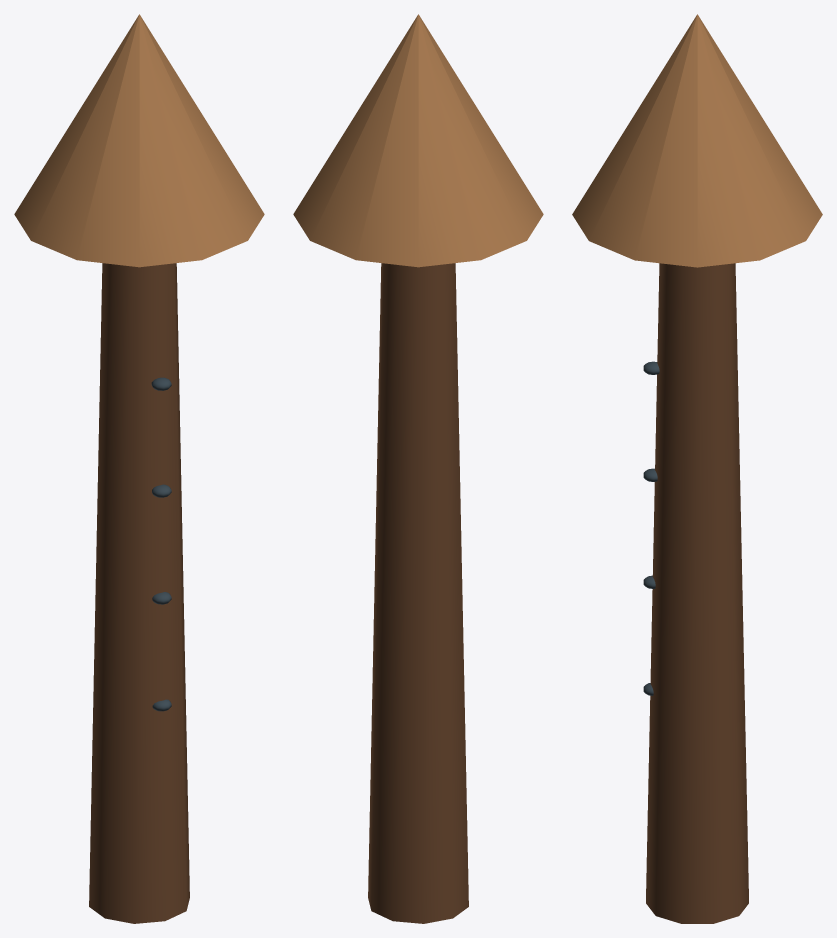
The model's file is shawm.glb.
3 views of the same model, side by side, from view 1: azimuth 30°, elevation 25°; view 2: azimuth 150°, elevation 25°; view 3: azimuth 270°, elevation 25° (orthographic).
Parts seen in each view (by area): view 1: shawm-body, shawm-bell; view 2: shawm-body, shawm-bell; view 3: shawm-body, shawm-bell.
Boxes of the visible parts, <box> form: shawm-body: <box>89,263,189,923</box>; shawm-bell: <box>14,14,264,267</box>; shawm-body: <box>368,263,468,923</box>; shawm-bell: <box>293,14,543,267</box>; shawm-body: <box>646,263,748,923</box>; shawm-bell: <box>572,14,822,267</box>.
Bounding box in the file's own units: 0.17 × 0.665 × 0.17.
